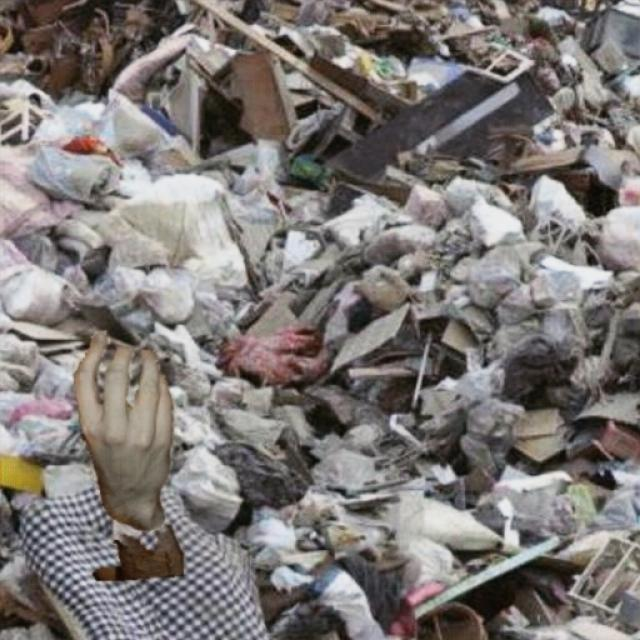Person in Rubble: (72, 331, 182, 580)
